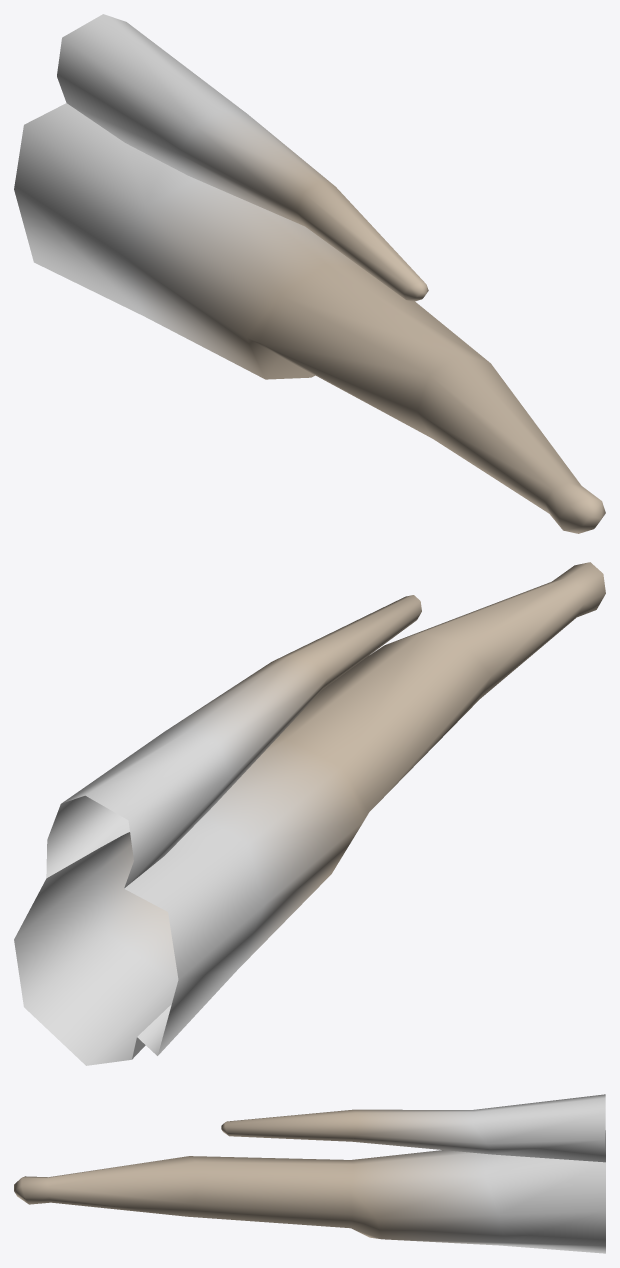
File: Stalactites_B.glb
3 views of the same model, one above another, from view 1: azimuth 30°, elevation 25°; view 2: azimuth 150°, elevation 25°; view 3: azimuth 270°, elevation 25° (orthographic). The views are drawn at different scales.
Parts seen in each view (by area): view 1: MeshNode_0; view 2: MeshNode_0; view 3: MeshNode_0.
Boxes of the visible parts, x1=… form: MeshNode_0: x1=14, y1=14, x2=605, y2=533; MeshNode_0: x1=14, y1=562, x2=605, y2=1065; MeshNode_0: x1=14, y1=1094, x2=605, y2=1253.
Size of the model in its own units: 1.53 by 2.16 by 7.45.
